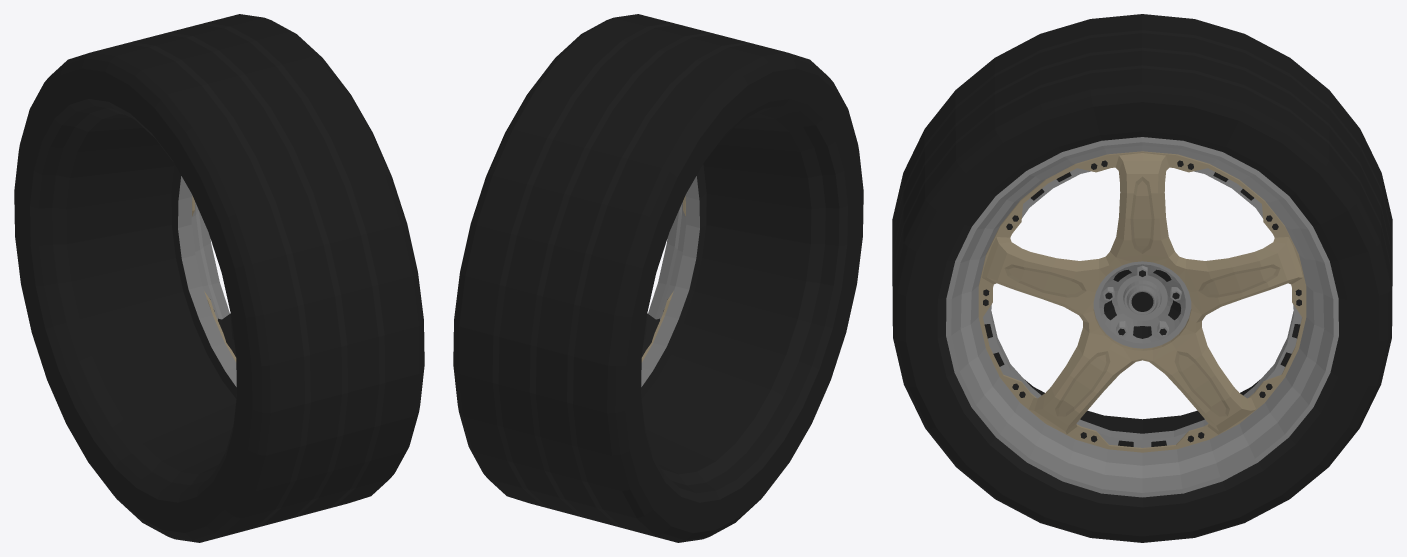
File: nsx_wheel.gltf
3 renders of one model, left to right at view 1: azimuth 30°, elevation 25°; view 2: azimuth 150°, elevation 25°; view 3: azimuth 270°, elevation 25°, orthographic.
Parts seen in each view (by area): view 1: wheel_front.001_4; view 2: wheel_front.001_4; view 3: wheel_front.001_4.
Part boxes in pixels (x1,y1,x2,y2): wheel_front.001_4: [14, 14, 424, 542]; wheel_front.001_4: [453, 14, 863, 542]; wheel_front.001_4: [892, 14, 1392, 542].
Bounding box in the file's own units: 0.178 × 0.4341 × 0.4297.
